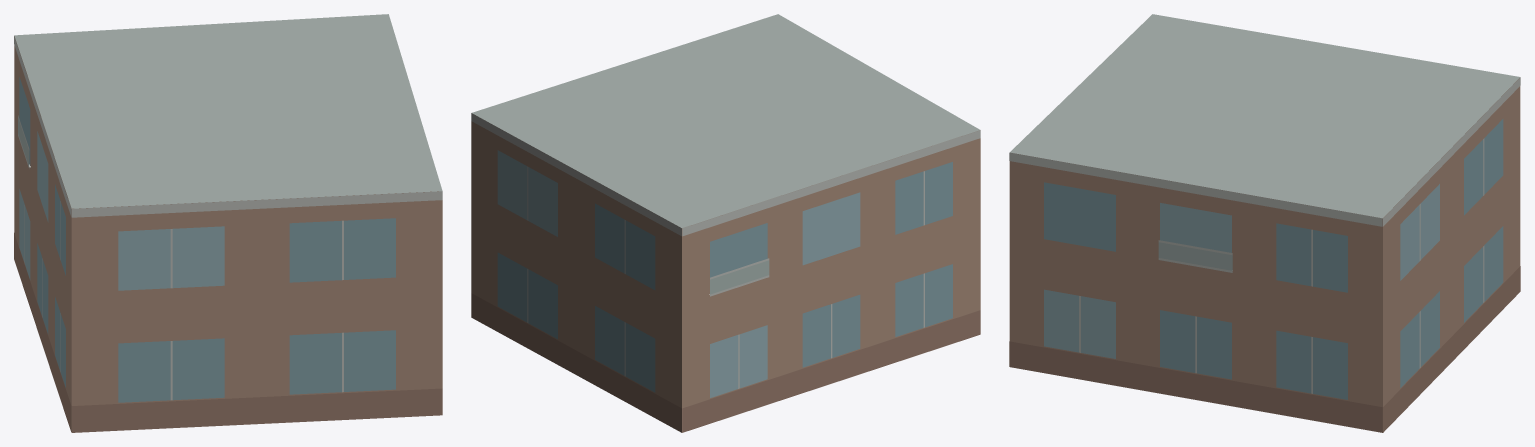
The model's file is survey-upis-32907705.glb.
3 renders of one model, left to right at view 1: azimuth 30°, elevation 25°; view 2: azimuth 150°, elevation 25°; view 3: azimuth 270°, elevation 25°, orthographic. The views are drawn at different scales.
Parts seen in each view (by area): view 1: survey-upis-32907705.tmp; view 2: survey-upis-32907705.tmp; view 3: survey-upis-32907705.tmp.
Boxes of the visible parts, x1,y1,x2,y2 form: survey-upis-32907705.tmp: (14,14,442,432); survey-upis-32907705.tmp: (471,14,980,432); survey-upis-32907705.tmp: (1009,14,1520,432).
Size of the model in its own units: 12.47 by 6.1 by 13.18.
